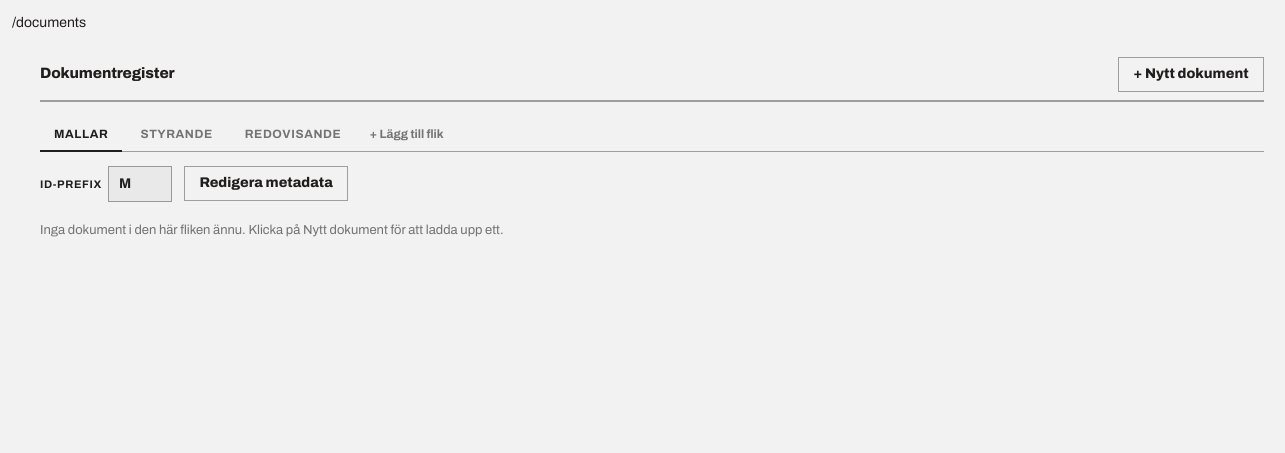
Test: adding a document › discards the draft on cancel
Click the button "+ Nytt dokument".
click(1191, 74)  # box [1118,57,1264,92]
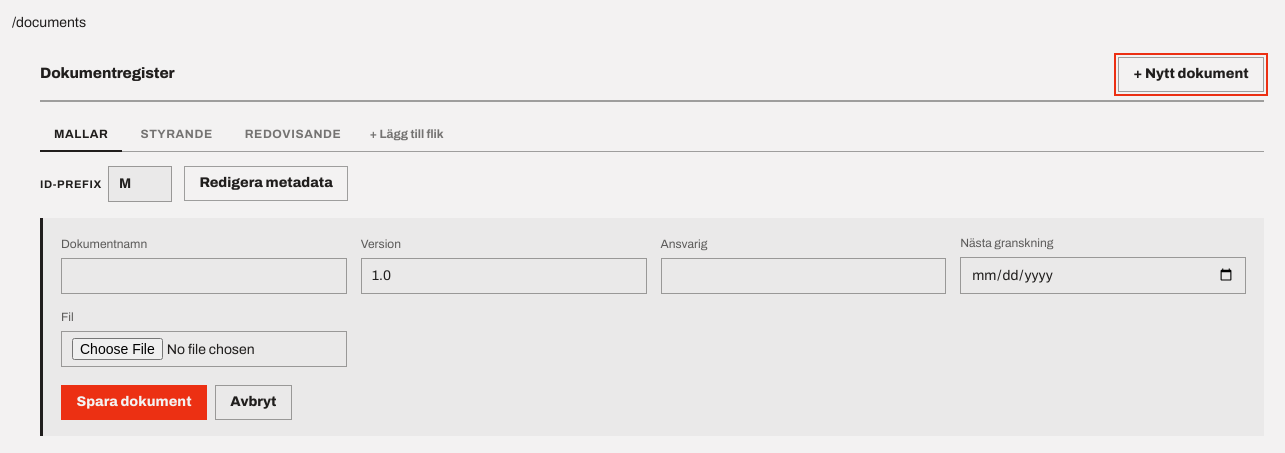
Type "Kvalitetshandbok" into the field labelled "Dokumentnamn".
click(204, 276); type("Kvalitetshandbok")  # box [61,258,347,294]
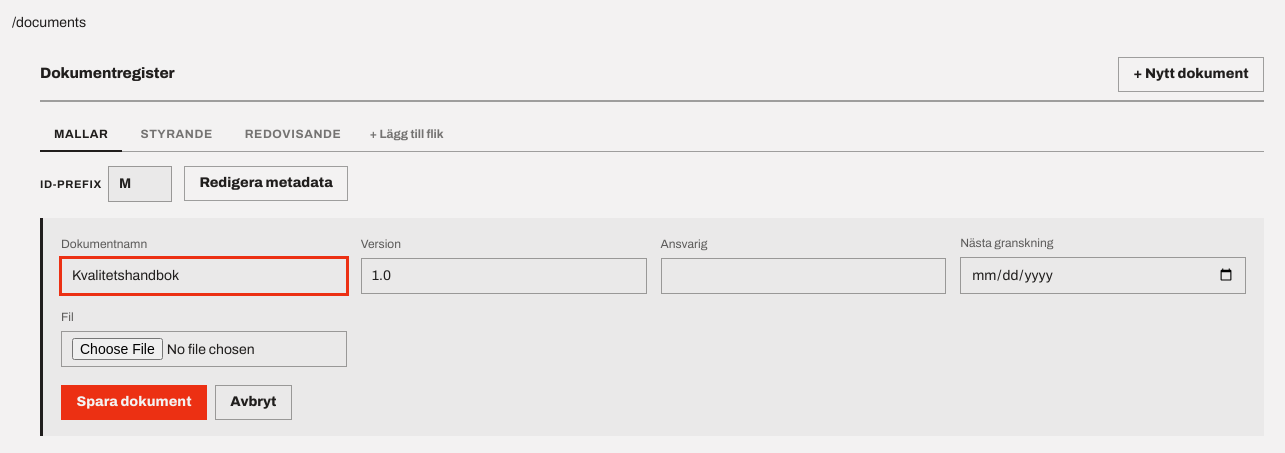
Click the button "Avbryt".
click(253, 402)  # box [215,385,292,420]
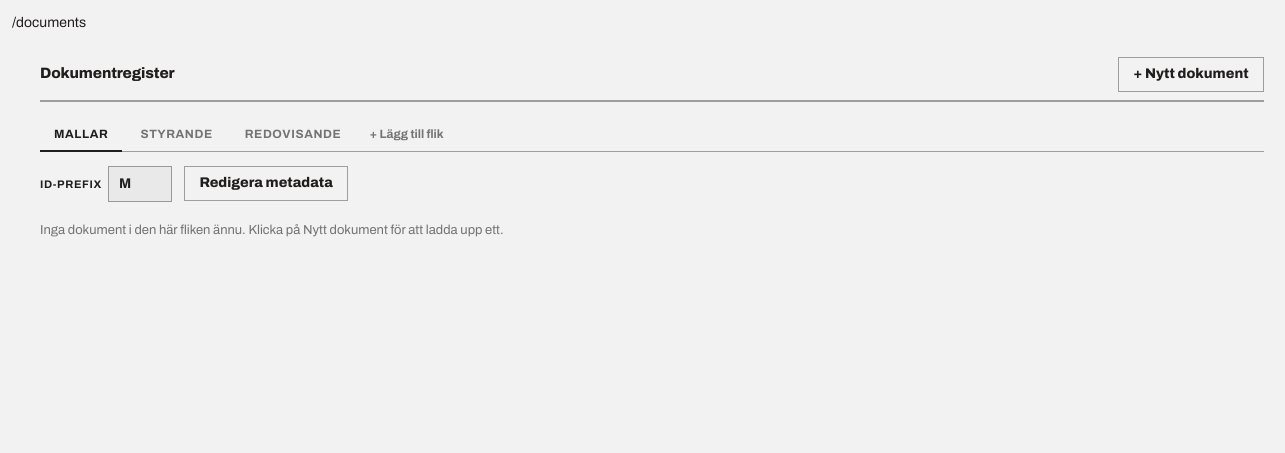
Expected: the text "Kvalitetshandbok" is not shown
Now the label labelled "Dokumentnamn" is gone
